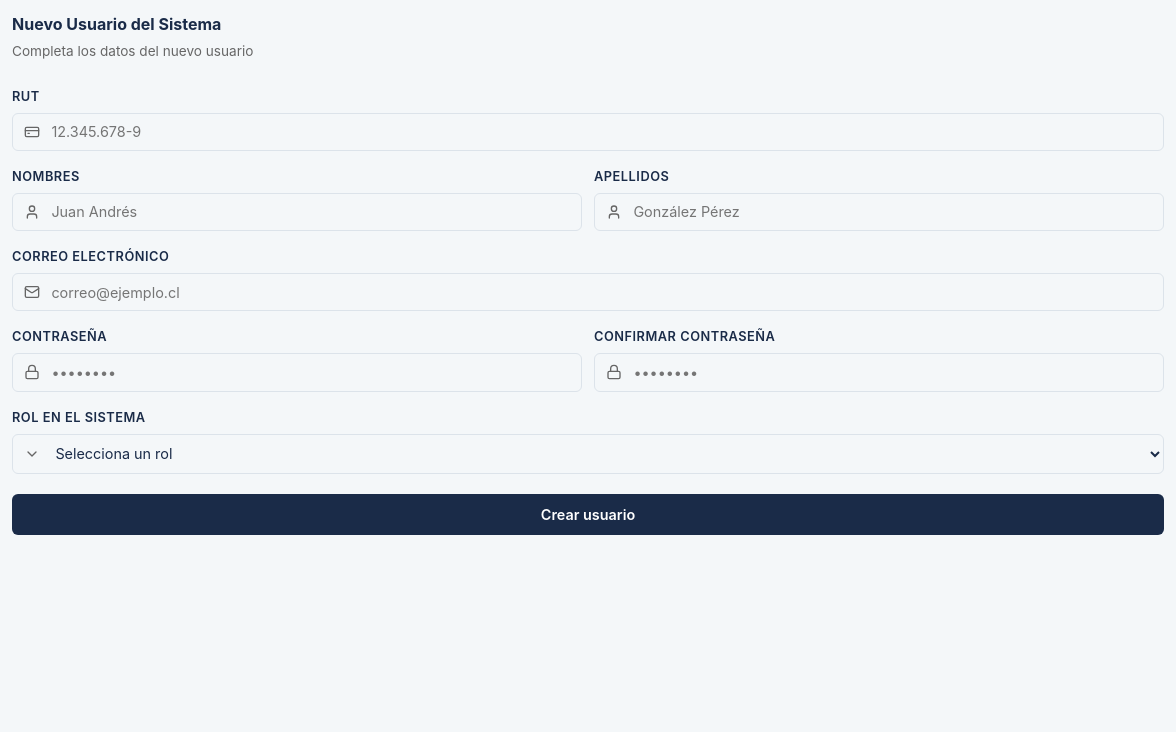
Test: FormularioUsuarioAdmin — modo creación › muestra selector de pupilo cuando el rol es APODERADO
Select "Apoderado" in the dropdown labelled "Rol en el sistema" at (607, 454), box [51,435,1163,473]
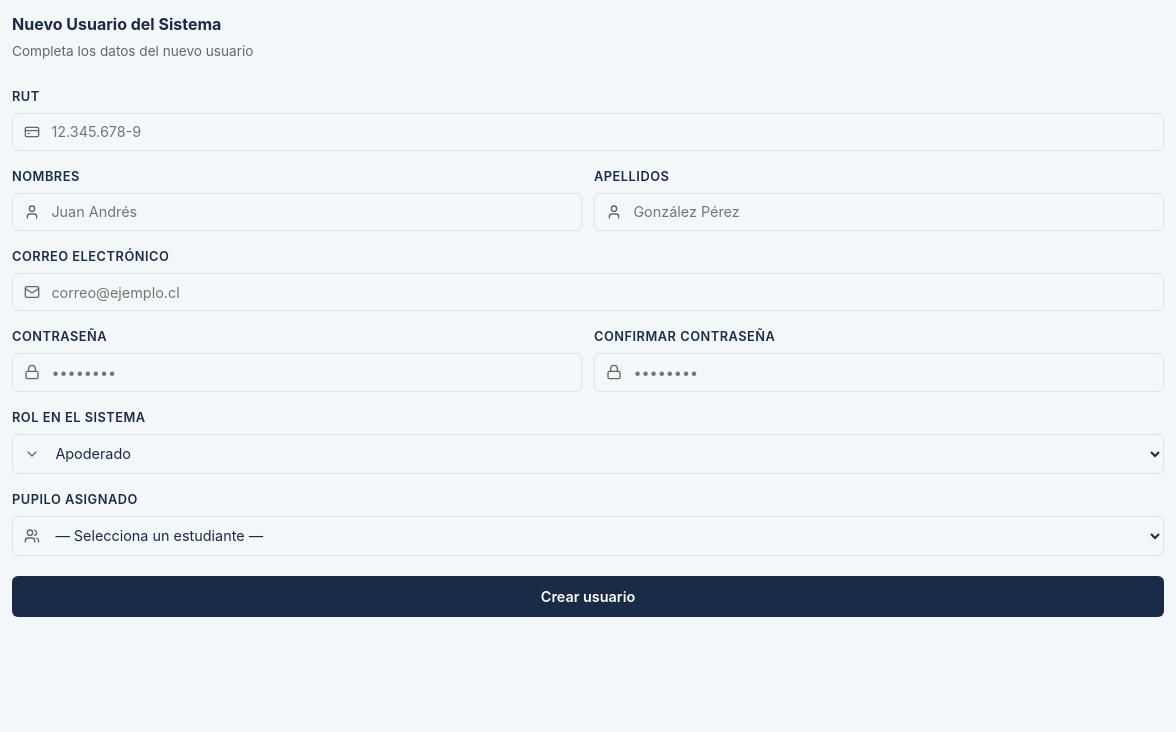
Result: the dropdown labelled "Pupilo asignado" is shown at [51,517,1163,555]
